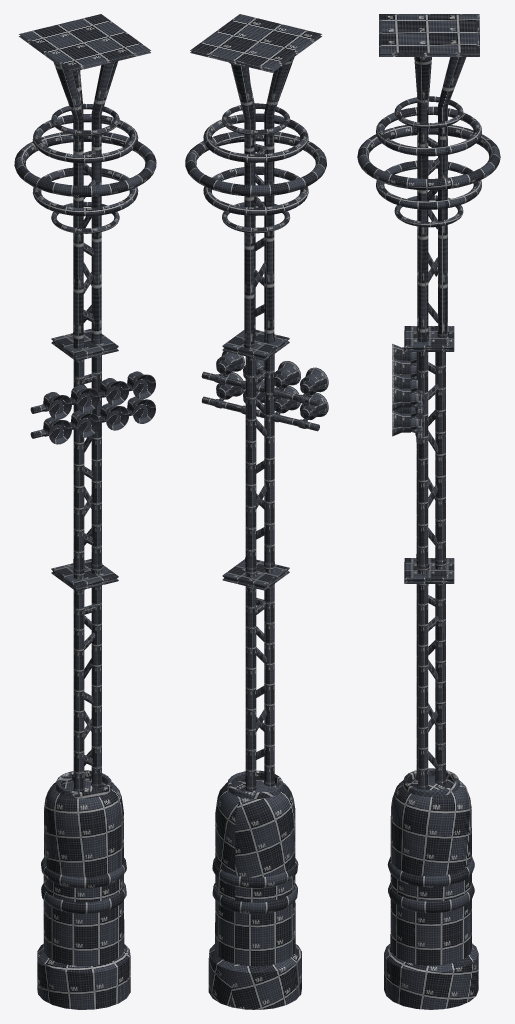
File: LightPoll.fbx
3 views of the same model, side by side, from view 1: azimuth 30°, elevation 25°; view 2: azimuth 150°, elevation 25°; view 3: azimuth 270°, elevation 25° (orthographic).
Visible parts, largest first — view 1: pSphere1, pCylinder16 (×2), pCube3, pTorus1, pCylinder15, pCylinder17, Polls:pCylinder17, Polls:pCylinder16, pTorus4, pTorus2, Light2 (×2), pCube1 (+10 smaller); view 2: pSphere1, pCylinder15 (×2), pCube3, pTorus1, pCylinder4, Polls:pCylinder15, Polls:pCylinder16, pCylinder16, pTorus4, pTorus2, pCube1, pCube2 (+10 smaller); view 3: pSphere1, pCube3, pCylinder16 (×2), pTorus1, pCylinder4, Polls:pCylinder15, pCylinder17, Polls:pCylinder17, pCylinder15, pTorus4, pTorus2, pCube1 (+6 smaller).
Part boxes in pixels (x1,y1,x2,y2): pSphere1: (37, 770, 130, 1009); pCylinder16 (×2): (73, 61, 118, 791); pCube3: (19, 14, 150, 72); pTorus1: (14, 132, 156, 196); pCylinder15: (53, 62, 84, 348); pCylinder17: (91, 585, 102, 788); Polls:pCylinder17: (91, 355, 102, 574); Polls:pCylinder16: (73, 359, 84, 579); pTorus4: (32, 114, 138, 163); pTorus2: (32, 167, 138, 216); Light2 (×2): (100, 396, 155, 430); pCube1: (51, 328, 118, 361); pSphere1: (208, 770, 301, 1009); pCylinder15 (×2): (245, 57, 294, 791); pCube3: (190, 14, 321, 72); pTorus1: (185, 131, 326, 196); pCylinder4: (229, 62, 254, 348); Polls:pCylinder15: (245, 356, 256, 577); Polls:pCylinder16: (264, 354, 274, 572); pCylinder16: (264, 583, 274, 786); pTorus4: (203, 113, 308, 162); pTorus2: (203, 166, 308, 215); pCube1: (222, 330, 289, 360); pCube2: (222, 559, 289, 590); pSphere1: (384, 768, 478, 1009); pCube3: (379, 14, 479, 56); pCylinder16 (×2): (414, 57, 431, 780); pTorus1: (357, 125, 500, 190); pCylinder4: (437, 57, 466, 338); Polls:pCylinder15: (435, 352, 446, 569); pCylinder17: (417, 584, 428, 789); Polls:pCylinder17: (417, 352, 428, 574); pCylinder15: (435, 584, 446, 784); pTorus4: (376, 106, 481, 156); pTorus2: (376, 160, 481, 209); pCube1: (404, 326, 454, 351).
Bounding box in the file's own units: 2.94 × 21.65 × 2.94.
